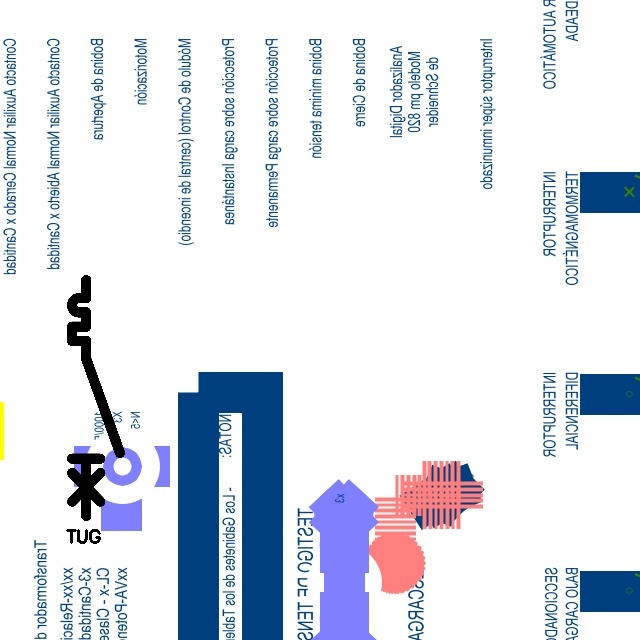interruptor_termomagnetico: (66, 274, 126, 521)
